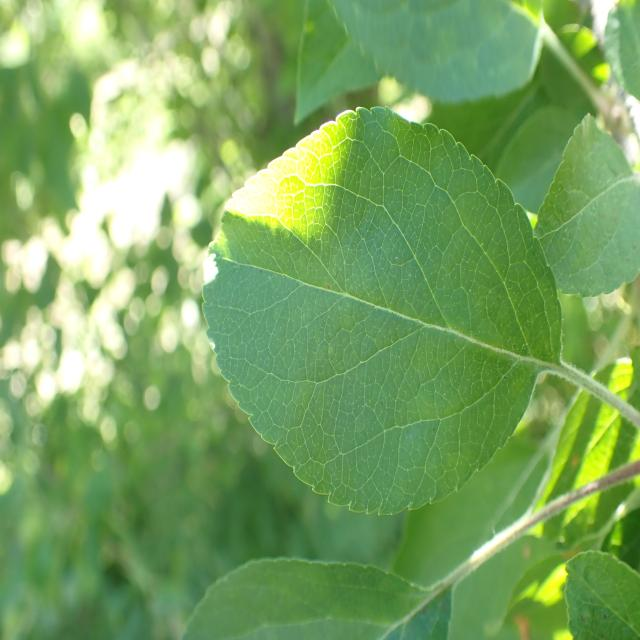healthy: (201, 106, 563, 515), (292, 0, 545, 121), (181, 555, 453, 640), (533, 112, 640, 298), (562, 549, 640, 640)
